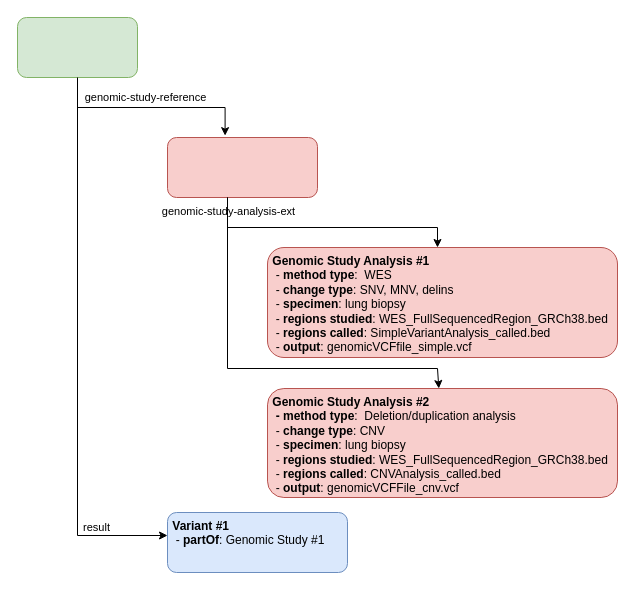
This 635x590 diagram has some shape labels left out. The shapes that lost their labels are listed below. From the top down, each one's box as (x1, y1, x2, y2) in pixels, then its label:
(16, 16, 138, 78): Genomic Report
(166, 136, 318, 198): Genomic Study #1 - code : Solid tumor WES - reason : lung mass
